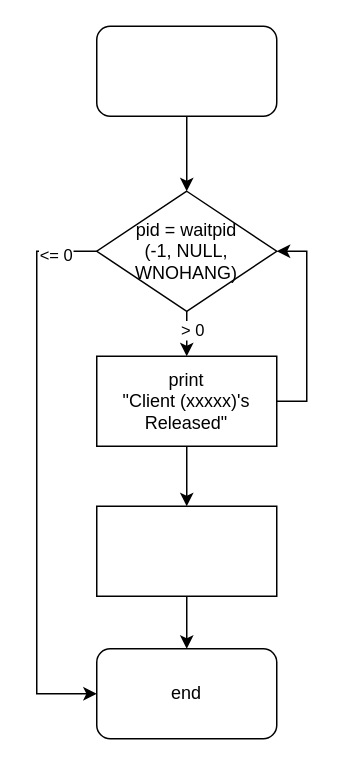
Image size: 345x765. Some labels were removed from this diagram. Each missing label, with the centre of its shape:
"remove INFO node which has pid" belongs at pixel 186 550.
"start" belongs at pixel 186 70.
